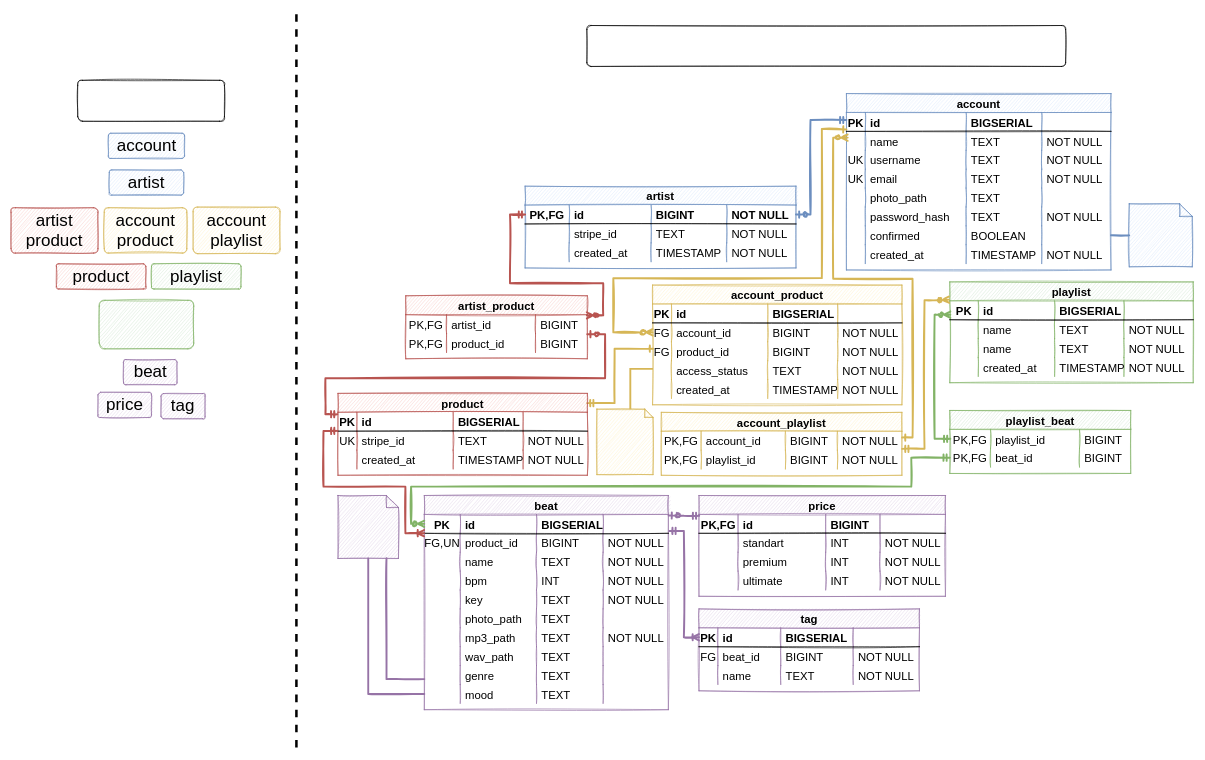
The diagram is 1205 pixels wide and 760 high, and some of its shapes have lost their labels. Each missing label, with the centre of its shape:
BEAT STORE DATABASE: point 826,45
check: standart premium ultimate: point 624,442
default: "All": point 367,526
default: false: point 1160,235
entities: point 150,100
playlist beat: point 146,324
